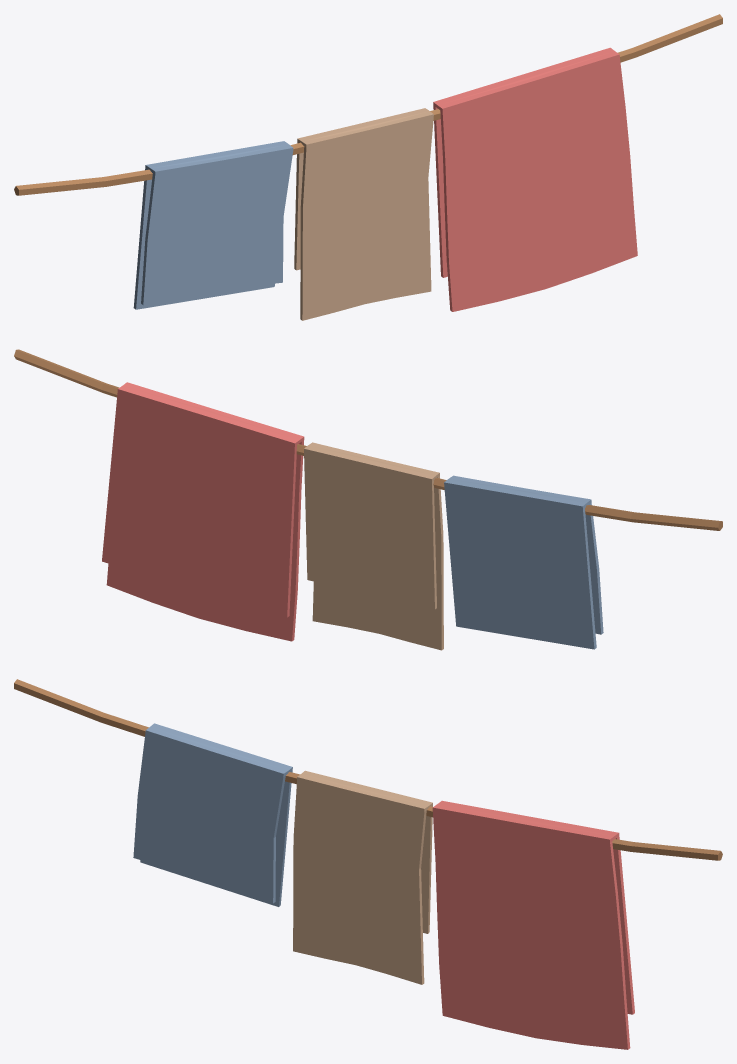
File: Dryer_01.fbx
3 views of the same model, one above another, from view 1: azimuth 30°, elevation 25°; view 2: azimuth 150°, elevation 25°; view 3: azimuth 330°, elevation 25° (orthographic).
Parts seen in each view (by area): view 1: Dryer_01; view 2: Dryer_01; view 3: Dryer_01.
Boxes of the visible parts, box(x1,y1,x2,y2) form: Dryer_01: box(14, 14, 722, 320); Dryer_01: box(14, 349, 722, 650); Dryer_01: box(14, 679, 722, 1049).
Size of the model in its own units: 272 by 84.15 by 6.24.
